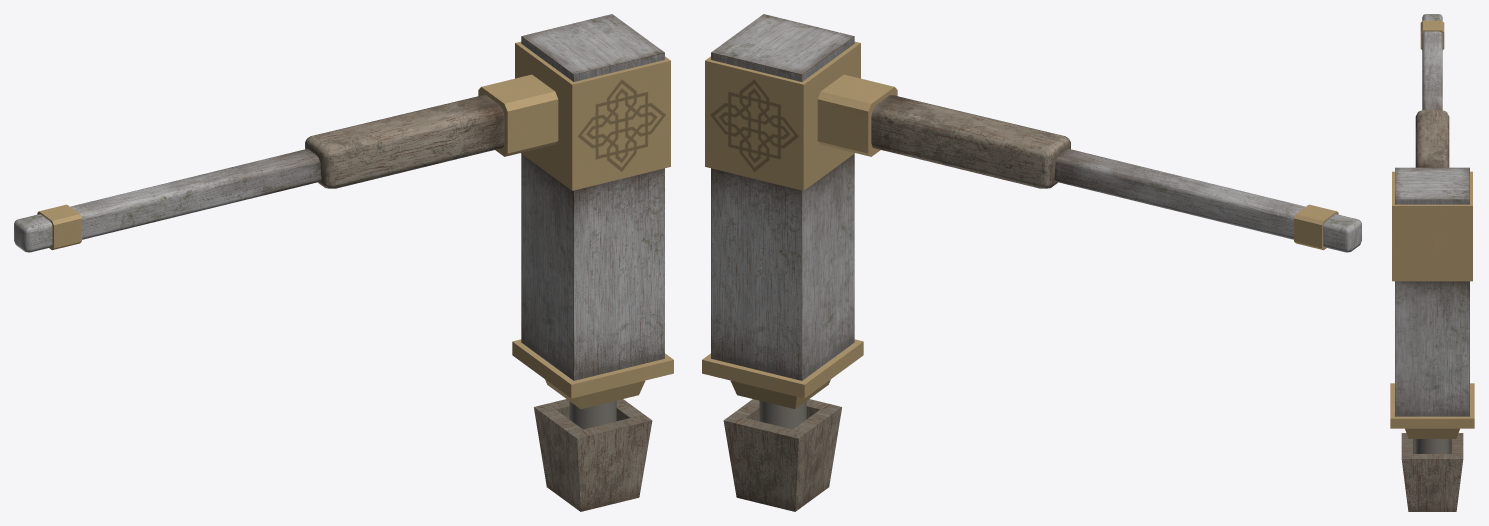
Rendered from mechanism2_2.fbx.
3 renders of one model, left to right at view 1: azimuth 30°, elevation 25°; view 2: azimuth 150°, elevation 25°; view 3: azimuth 270°, elevation 25°, orthographic. The views are drawn at different scales.
Visible parts, largest first — view 1: lever, mechanism2_2_base; view 2: lever, mechanism2_2_base; view 3: lever, mechanism2_2_base.
Boxes of the visible parts, box(x1,y1,x2,y2) form: lever: box(14, 14, 673, 429); mechanism2_2_base: box(534, 399, 652, 511); lever: box(702, 14, 1361, 429); mechanism2_2_base: box(723, 399, 841, 511); lever: box(1390, 14, 1474, 453); mechanism2_2_base: box(1401, 433, 1463, 511).
Size of the model in its own units: 246 by 169 by 40.41.
